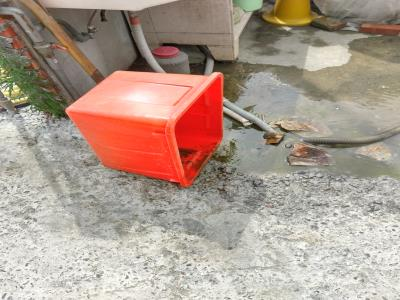box: (62, 66, 229, 191)
